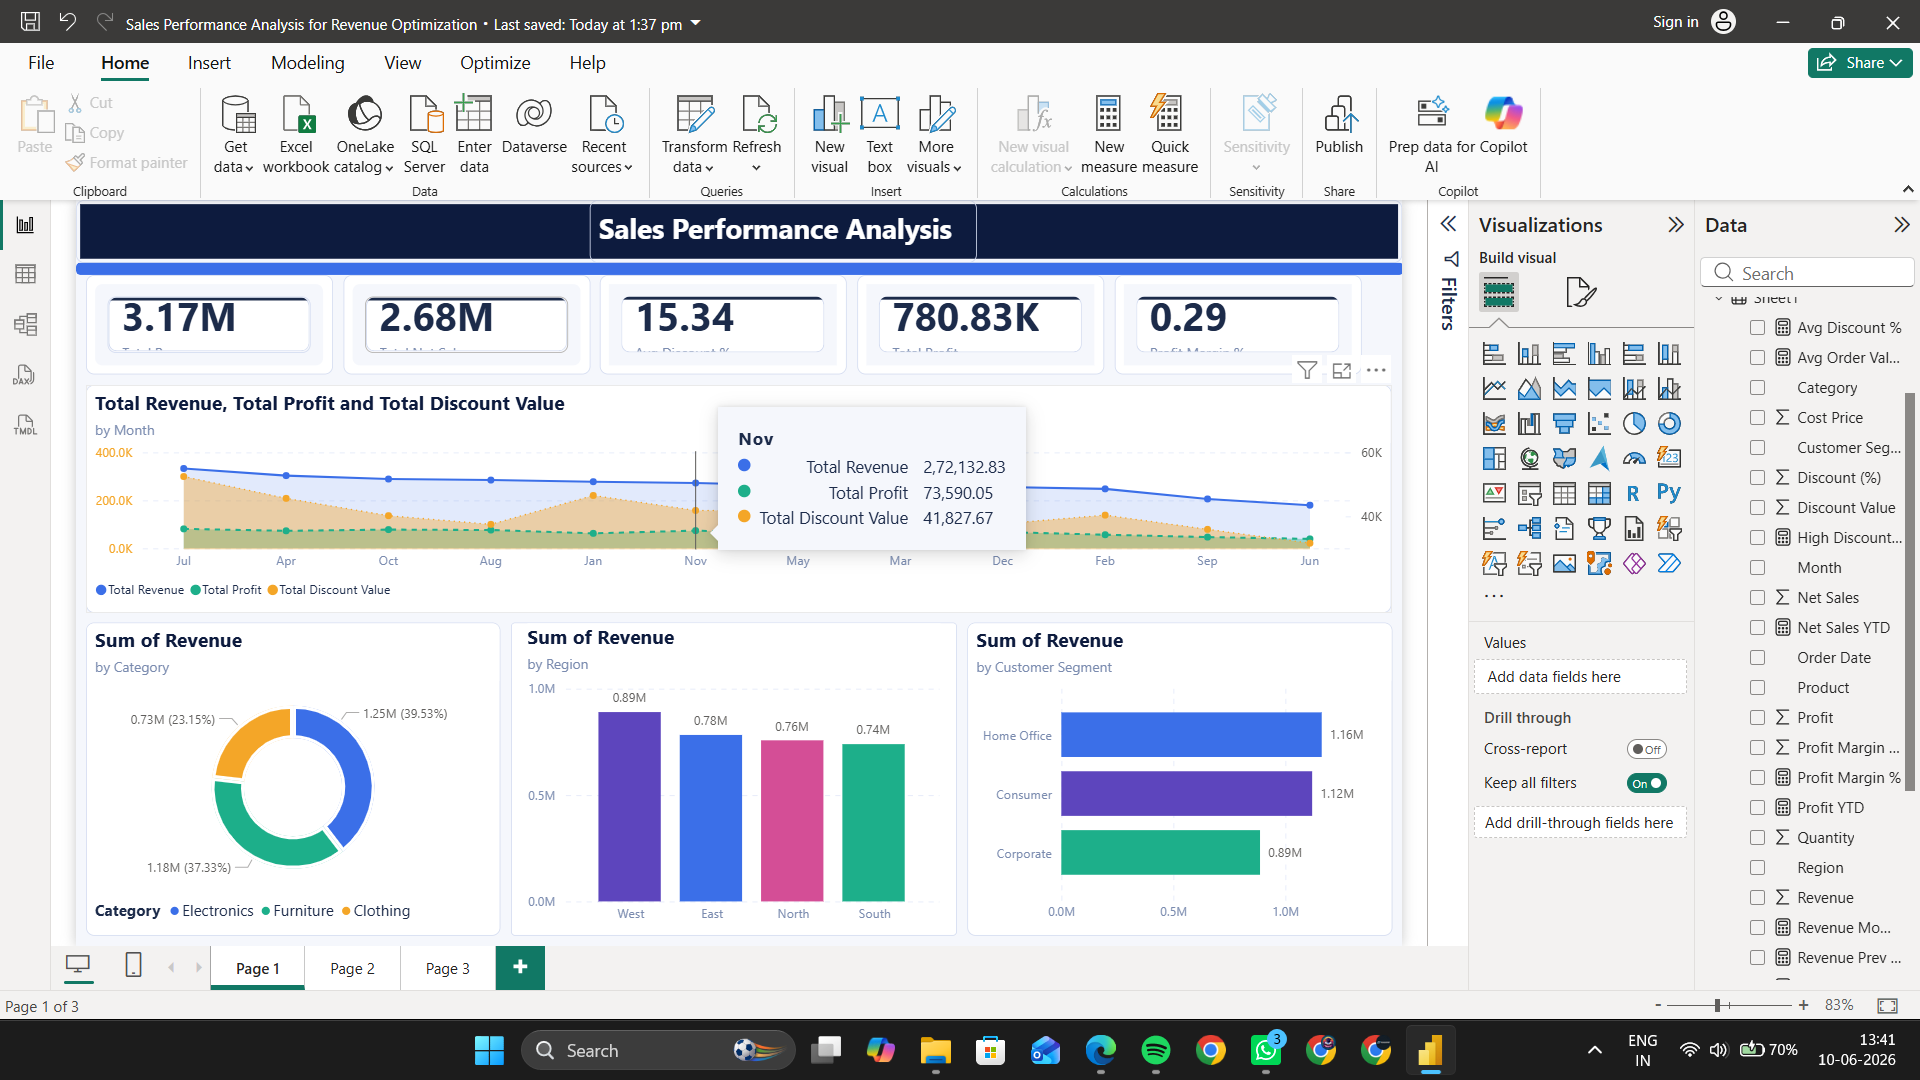

The page's visual inventory and layout, read from the dashboard file:
{"tool":"powerbi","page":{"name":"Page 1","canvas":[1280,720],"ordinal":0},"visuals":[{"type":"cardVisual","fields":{"Data":["Sheet1.Total Revenue"]},"box":[10,72,238,96],"z":0},{"type":"cardVisual","fields":{"Data":["Sheet1.Total Profit"]},"box":[754,72,238,96],"z":1000},{"type":"cardVisual","fields":{"Data":["Sheet1.Total Net Sales"]},"box":[258,72,238,96],"z":2000},{"type":"cardVisual","fields":{"Data":["Sheet1.Profit Margin %"]},"box":[1002,72,238,96],"z":3000},{"type":"lineChart","fields":{"Category":["Sheet1.Month"],"Y":["Sheet1.Total Revenue","Sheet1.Total Profit"],"Y2":["Sheet1.Total Discount Value"]},"box":[10,178,1260,220],"z":4000},{"type":"donutChart","fields":{"Category":["Sheet1.Category"],"Y":["Sum(Sheet1.Revenue)"]},"box":[10,408,400,302],"z":5000},{"type":"columnChart","fields":{"Category":["Sheet1.Region"],"Y":["Sum(Sheet1.Revenue)"]},"box":[420,408,430,302],"z":6000},{"type":"barChart","fields":{"Y":["Sum(Sheet1.Revenue)"],"Category":["Sheet1.Customer Segment"]},"box":[860,408,410,302],"z":7000},{"type":"cardVisual","fields":{"Data":["Sheet1.Avg Discount %"]},"box":[506,72,238,96],"z":8000},{"type":"shape","box":[0,0,1280,60.7],"z":9000,"group":"g1"},{"type":"textbox","box":[495.8,0,374,60.7],"z":10000,"group":"g1"},{"type":"shape","box":[0,60,1281.2,12.1],"z":11000,"group":"g1"},{"type":"group","id":"g1","title":"Group 1","box":[0,0,1281.2,72.1],"z":11001}]}

Visuals, with their boxes on the page's 1280x720 design canvas (x1, y1, x2, y2). These are canvas units, not pixel positions in the 1920x1080 screenshot, which may show the page scaled, cropped or inside an application window:
cardVisual - Sheet1.Total Revenue: [10, 72, 248, 168]
cardVisual - Sheet1.Total Profit: [754, 72, 992, 168]
cardVisual - Sheet1.Total Net Sales: [258, 72, 496, 168]
cardVisual - Sheet1.Profit Margin %: [1002, 72, 1240, 168]
lineChart - Sheet1.Month x Sheet1.Total Revenue: [10, 178, 1270, 398]
donutChart - Sheet1.Category x Sum(Sheet1.Revenue): [10, 408, 410, 710]
columnChart - Sheet1.Region x Sum(Sheet1.Revenue): [420, 408, 850, 710]
barChart - Sum(Sheet1.Revenue) x Sheet1.Customer Segment: [860, 408, 1270, 710]
cardVisual - Sheet1.Avg Discount %: [506, 72, 744, 168]
shape: [0, 0, 1280, 61]
textbox: [496, 0, 870, 61]
shape: [0, 60, 1281, 72]
"Group 1" group: [0, 0, 1281, 72]
